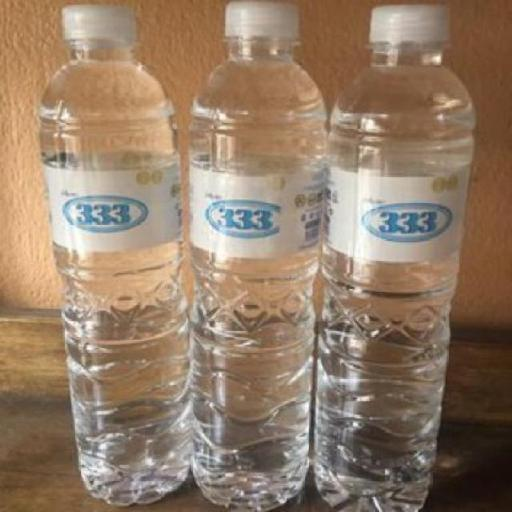plastic: (311, 3, 477, 511), (38, 5, 191, 508), (186, 0, 330, 511)
